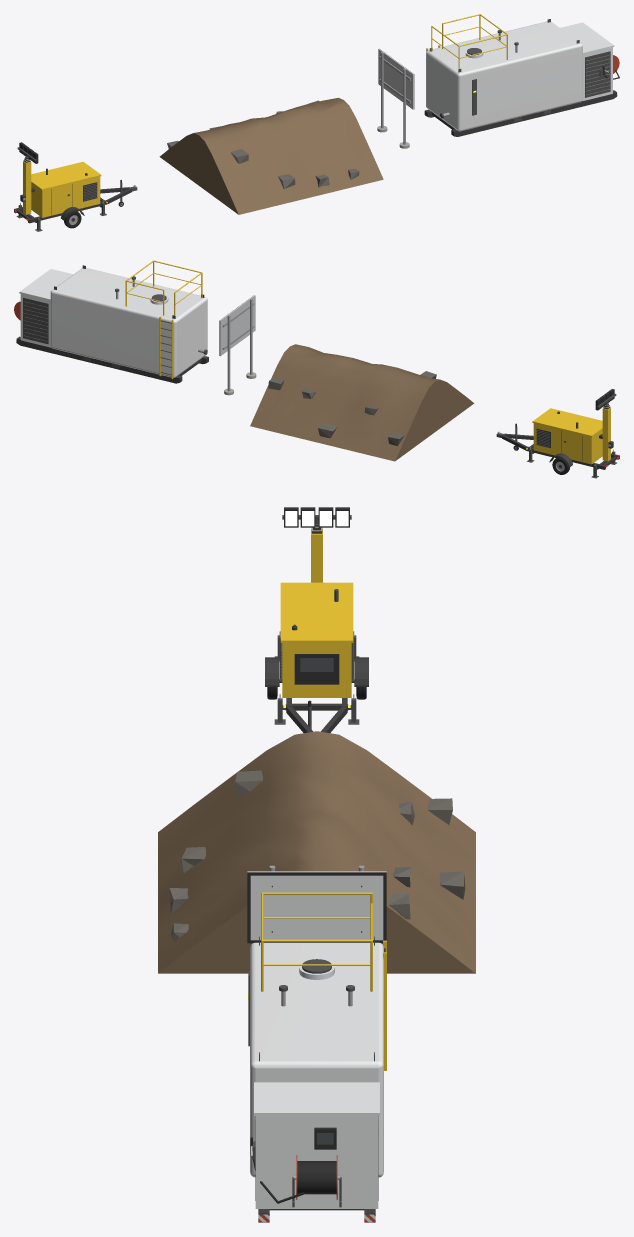
The model's file is mine_site_props.glb.
3 renders of one model, top to bottom at view 1: azimuth 30°, elevation 25°; view 2: azimuth 150°, elevation 25°; view 3: azimuth 270°, elevation 25°, orthographic. The views are drawn at different scales.
Parts seen in each view (by area): view 1: fuel_bowser, safety_berm_section, lighting_plant, haul_road_sign; view 2: fuel_bowser, safety_berm_section, lighting_plant, haul_road_sign; view 3: safety_berm_section, fuel_bowser, lighting_plant, haul_road_sign, fuel_hose_reel_spin, lamp_head_rotate.
Part boxes in pixels (<box>): fuel_bowser: <box>424,14,619,136</box>; safety_berm_section: <box>159,97,383,214</box>; lighting_plant: <box>14,161,137,223</box>; haul_road_sign: <box>377,48,414,148</box>; fuel_bowser: <box>16,260,208,383</box>; safety_berm_section: <box>250,344,474,461</box>; lighting_plant: <box>496,407,619,469</box>; haul_road_sign: <box>219,295,256,395</box>; safety_berm_section: <box>158,731,475,973</box>; fuel_bowser: <box>248,892,386,1222</box>; lighting_plant: <box>265,529,368,732</box>; haul_road_sign: <box>247,865,386,943</box>; fuel_hose_reel_spin: <box>293,1155,340,1199</box>; lamp_head_rotate: <box>282,507,351,527</box>.
Bounding box in the file's own units: 24.57 × 3.56 × 5.7.
Materials: 17 (17 with a texture image).
